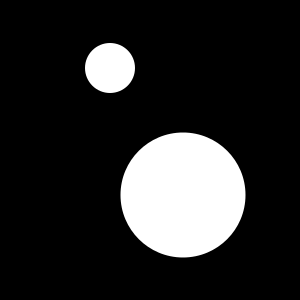rectangle: (120, 132, 246, 258), (85, 43, 135, 93)
